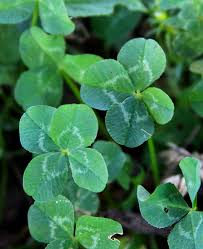4-clover: (81, 36, 176, 146), (20, 102, 107, 200)
